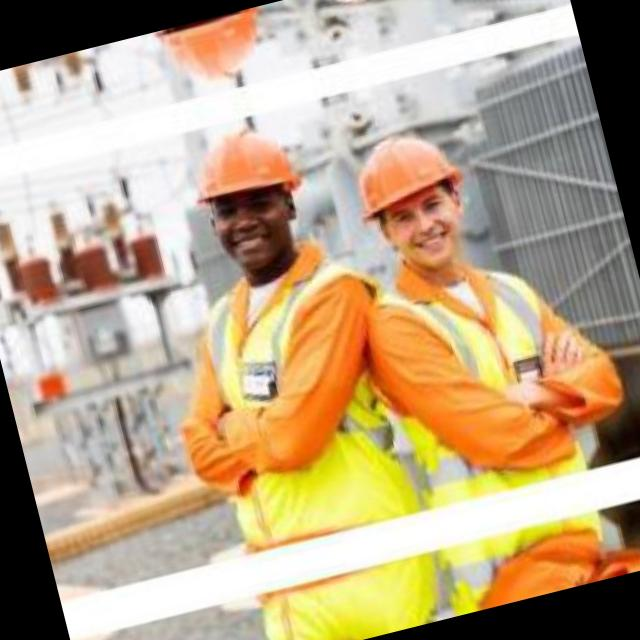helmet: (154, 99, 330, 296), (330, 104, 500, 295), (129, 4, 286, 116), (295, 0, 436, 30)
